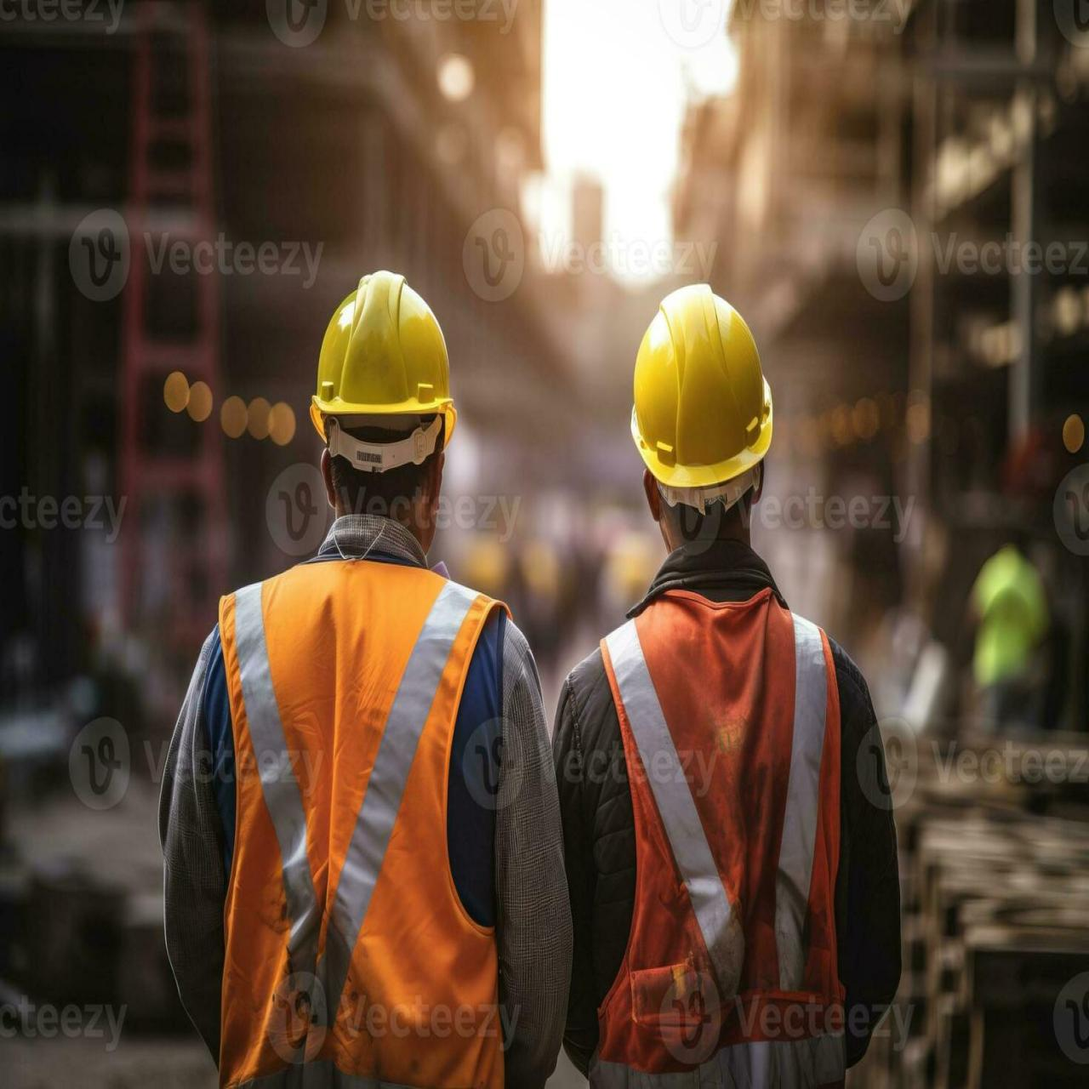Person: (152, 252, 586, 1087), (548, 259, 943, 1089)
Safety_Vest: (211, 548, 509, 1089), (594, 576, 853, 1089)
